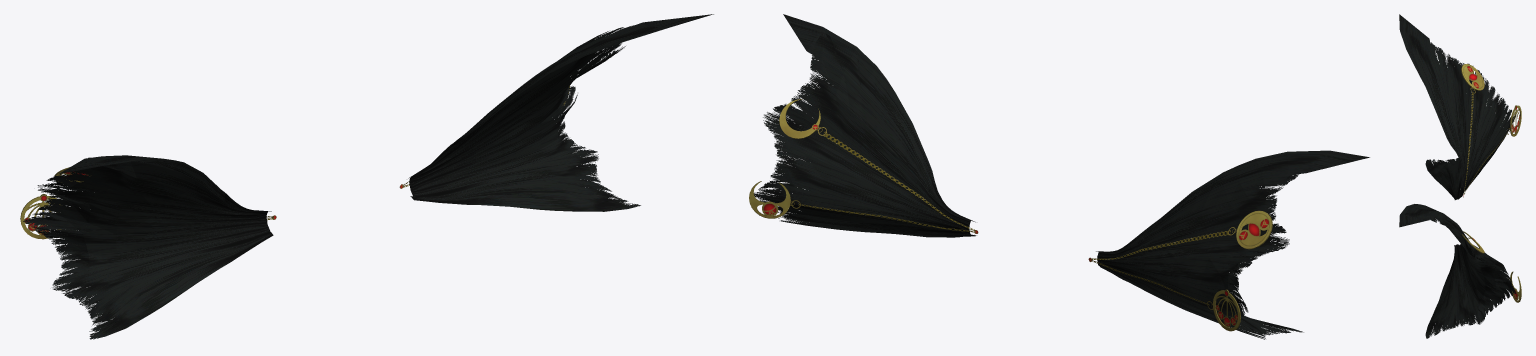
Rendered from sleeve_hair.obj.
3 views of the same model, side by side, from view 1: azimuth 30°, elevation 25°; view 2: azimuth 150°, elevation 25°; view 3: azimuth 270°, elevation 25° (orthographic). The views are drawn at different scales.
Parts seen in each view (by area): view 1: mesh1, mesh4, mesh5, mesh2, mesh7; view 2: mesh4, mesh1, mesh5, mesh2, mesh7, mesh6; view 3: mesh1, mesh4, mesh2, mesh7, mesh5, mesh6.
Boxes of the visible parts, bbox=[...] form: mesh1: bbox=[23, 157, 273, 339]; mesh4: bbox=[409, 24, 659, 211]; mesh5: bbox=[408, 14, 713, 178]; mesh2: bbox=[59, 155, 271, 211]; mesh7: bbox=[20, 86, 569, 239]; mesh4: bbox=[754, 33, 976, 237]; mesh1: bbox=[1097, 172, 1303, 339]; mesh5: bbox=[783, 14, 975, 222]; mesh2: bbox=[1096, 150, 1369, 252]; mesh7: bbox=[749, 99, 1272, 331]; mesh6: bbox=[798, 131, 1230, 305]; mesh1: bbox=[1425, 42, 1515, 200]; mesh4: bbox=[1405, 207, 1515, 338]; mesh2: bbox=[1399, 14, 1463, 189]; mesh7: bbox=[1461, 64, 1521, 302]; mesh5: bbox=[1399, 204, 1440, 227]; mesh6: bbox=[1464, 92, 1506, 239].
Bounding box in the file's own units: 5.13 × 1.45 × 1.24.
Materials: 4 (4 with a texture image).
